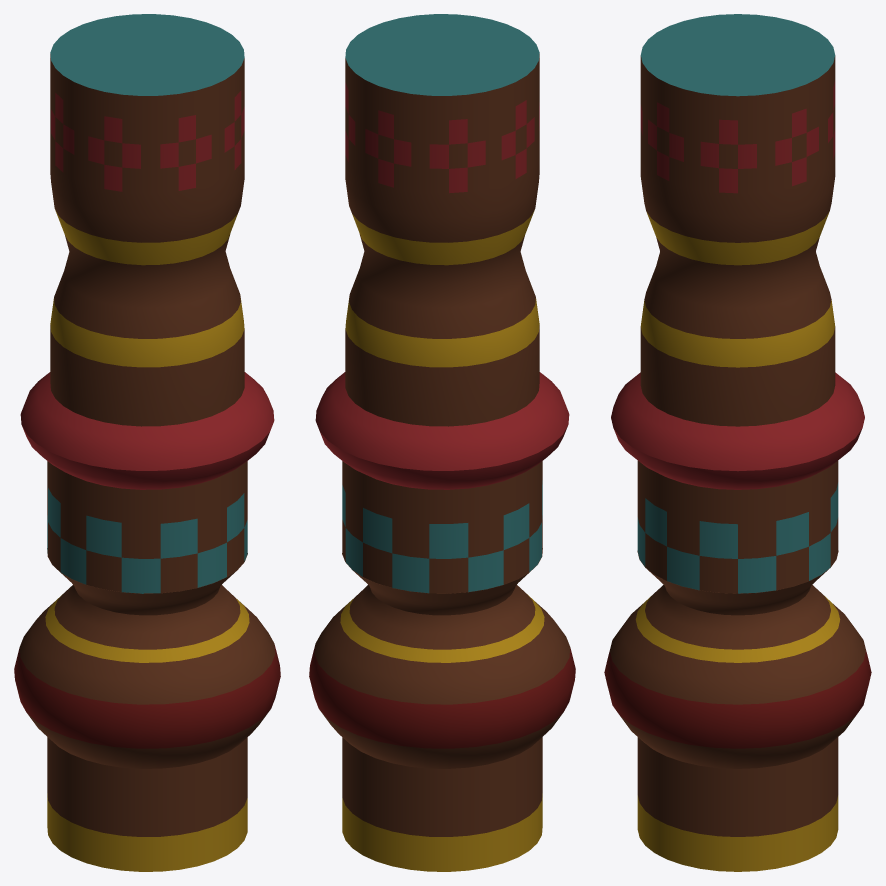
Rendered from grand-rodin-smooth 1.fbx.
3 renders of one model, left to right at view 1: azimuth 30°, elevation 25°; view 2: azimuth 150°, elevation 25°; view 3: azimuth 270°, elevation 25°, orthographic.
Visible parts, largest first — view 1: Cylinder.001; view 2: Cylinder.001; view 3: Cylinder.001.
Boxes of the visible parts, left/top/right/bottom form: Cylinder.001: left=14, top=14, right=280, bottom=871; Cylinder.001: left=309, top=14, right=575, bottom=871; Cylinder.001: left=604, top=14, right=871, bottom=871.
Bounding box in the file's own units: 422 × 1349 × 422.
